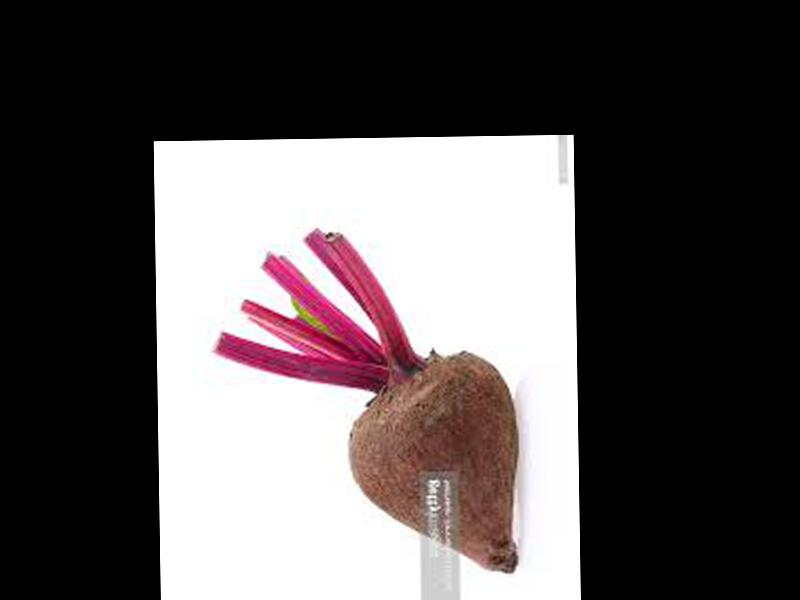Beet: (212, 225, 518, 578)
